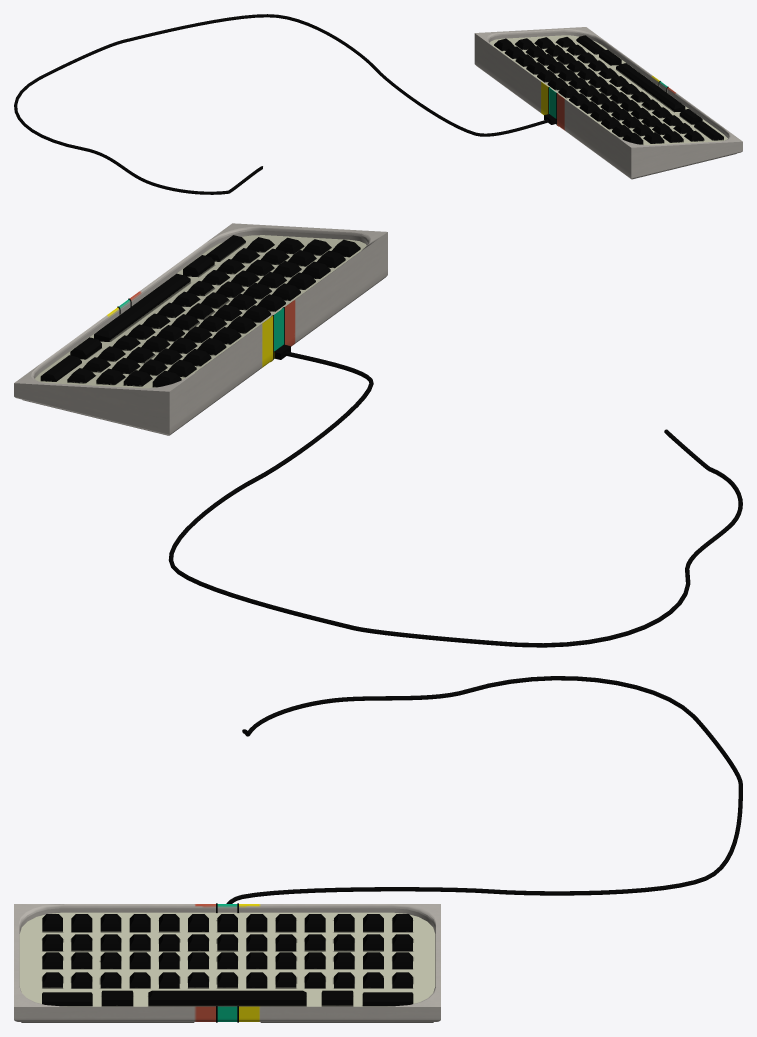
The model's file is kayboard.fbx.
3 renders of one model, top to bottom at view 1: azimuth 30°, elevation 25°; view 2: azimuth 150°, elevation 25°; view 3: azimuth 270°, elevation 25°, orthographic. The views are drawn at different scales.
Parts seen in each view (by area): view 1: BAKE; view 2: BAKE; view 3: BAKE.
Boxes of the visible parts, bbox=[...] form: BAKE: bbox=[14, 14, 742, 194]; BAKE: bbox=[14, 223, 742, 647]; BAKE: bbox=[14, 676, 742, 1022].
Bounding box in the file's own units: 367 × 24.32 × 331.
1 material, 1 textured.
